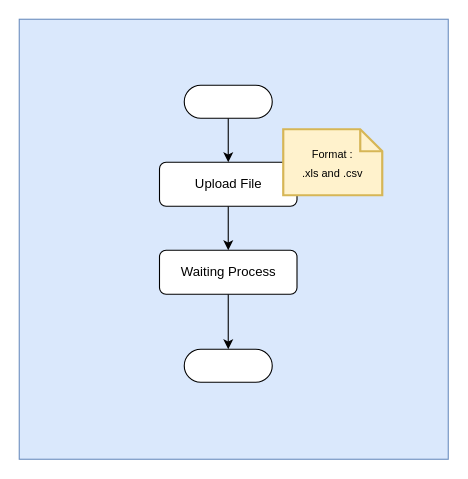
Some shapes in this 468 by 479 pixel diagram are drawn without their labels. The shapes that lost their labels are listed below. From the top down, each one's centre as x and y in pixels, then its label:
At (x=227, y=101): "Start".
At (x=227, y=365): "End".
